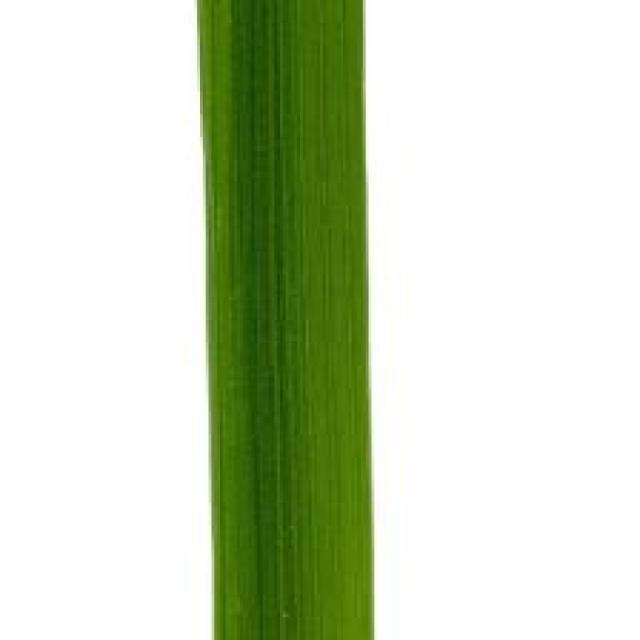Rice___Healthy_Rice_Plant: (195, 1, 376, 637)
